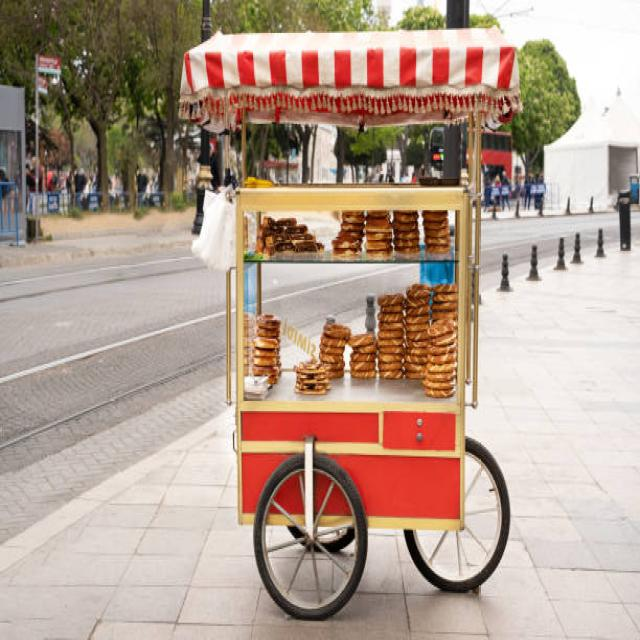Emperan: (172, 13, 532, 627)
